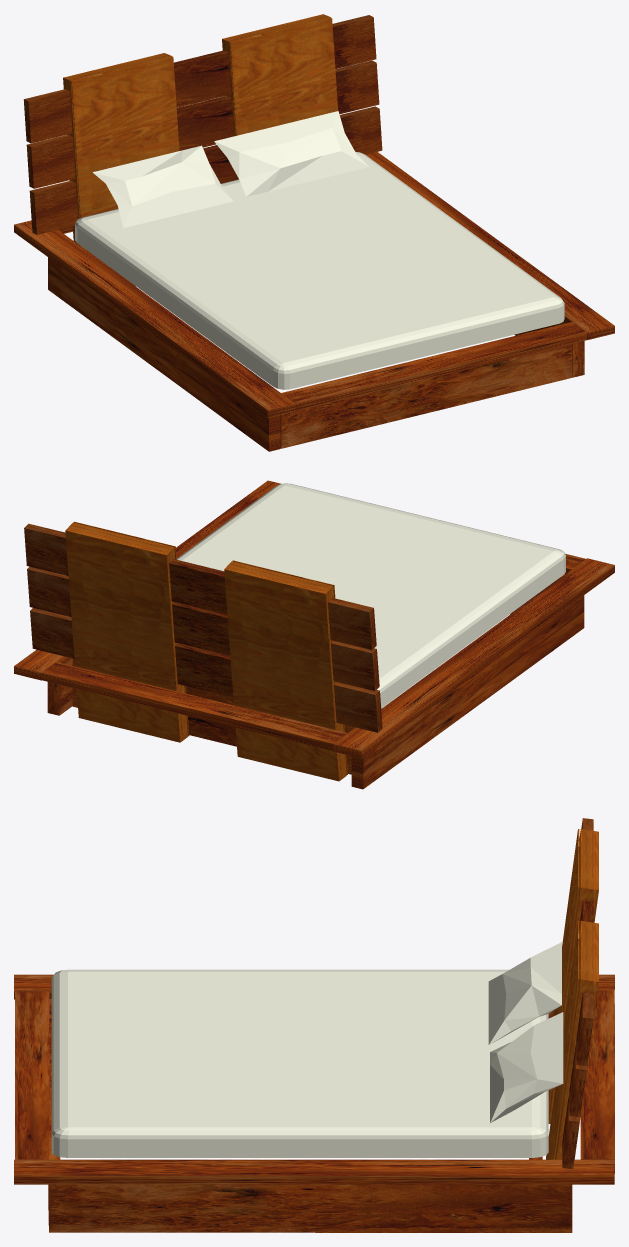
The picture shows the model from 3 angles, top to bottom: view 1: azimuth 30°, elevation 25°; view 2: azimuth 150°, elevation 25°; view 3: azimuth 270°, elevation 25°; orthographic projection. The views are drawn at different scales.
Parts seen in each view (by area): view 1: Geode; view 2: Geode; view 3: Geode.
Part boxes in pixels (x1=…): Geode: x1=14, y1=14, x2=614, y2=451; Geode: x1=14, y1=480, x2=614, y2=789; Geode: x1=14, y1=818, x2=614, y2=1232.
Bounding box in the file's own units: 357 × 196 × 452.
8 materials, 7 textured.
